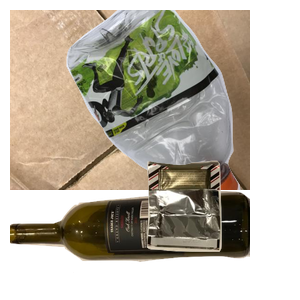cardboard: (10, 10, 250, 190)
glass: (10, 189, 250, 300)
plastic: (64, 10, 300, 190)
trash: (144, 158, 300, 300)
